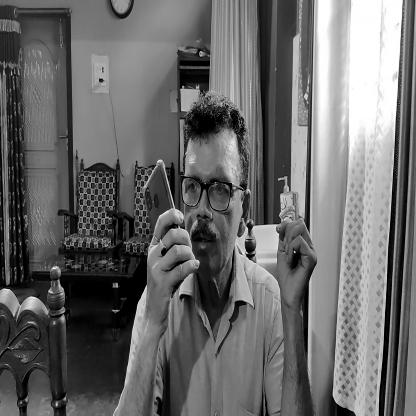Distracted: (184, 100, 249, 278)
